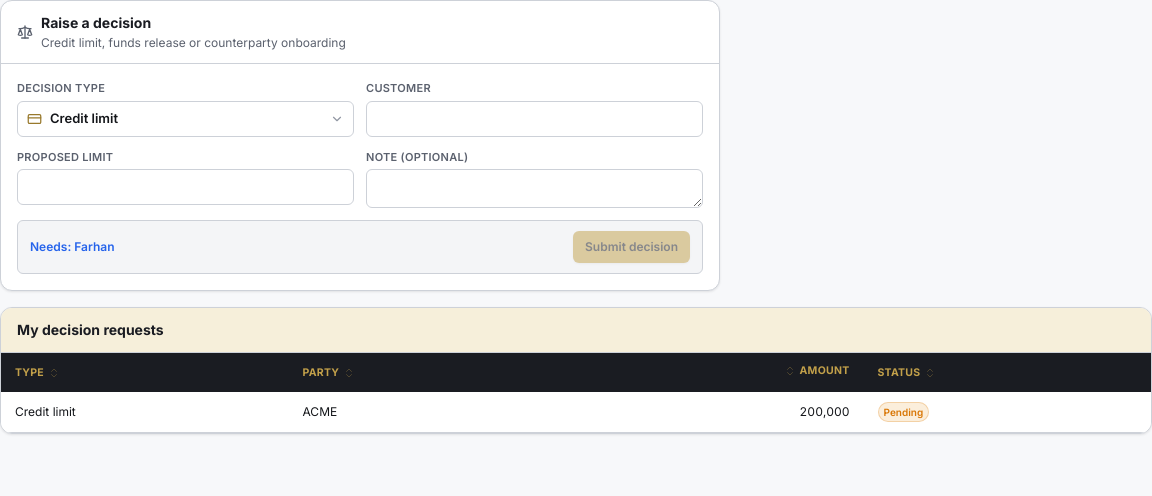
Test case: DecisionsBoard container › lists my requests and files a new decision on submit
This screenshot has width=1152, height=496.
Expected: the text "ACME" is shown, x1=288 y1=392 x2=576 y2=433
In the field named "Party": (534, 118) x1=366 y1=100 x2=703 y2=136, type "Beta Co"
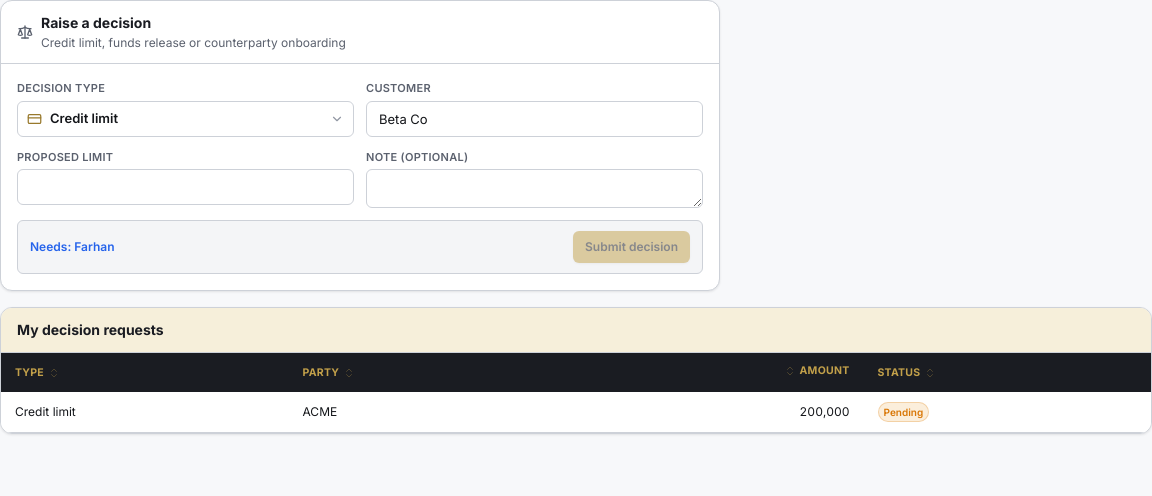
In the number field named "Amount": (186, 187) x1=17 y1=169 x2=354 y2=205, type "50000"
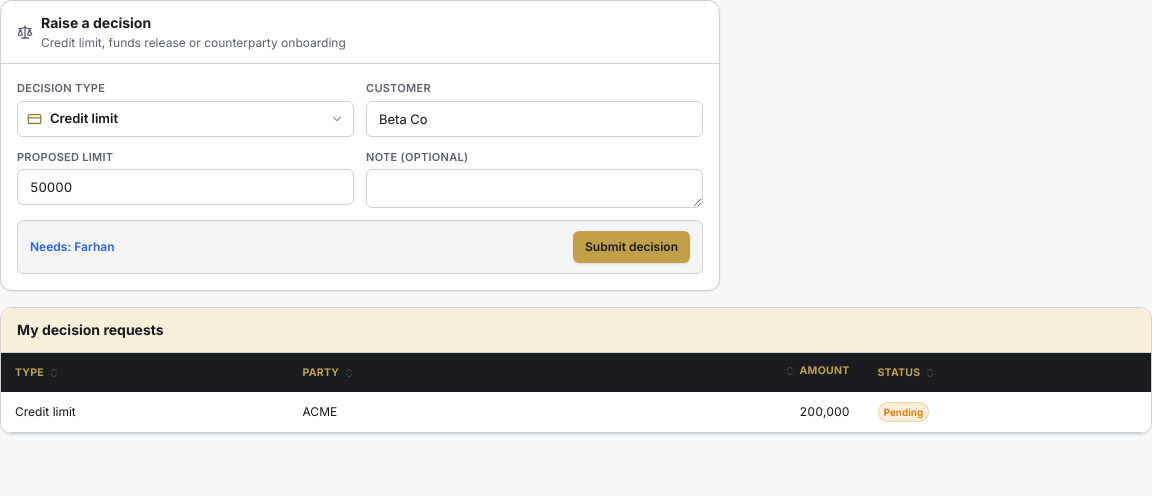
Click the button "Submit decision": (632, 247) x1=573 y1=231 x2=690 y2=263
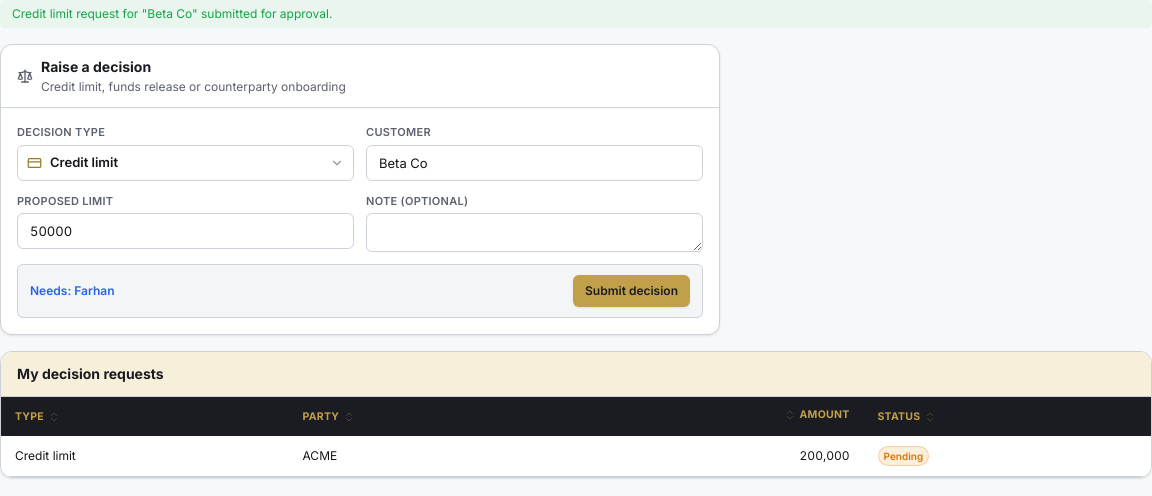
Expected: the message shows "submitted for approval", x1=12 y1=6 x2=332 y2=21
